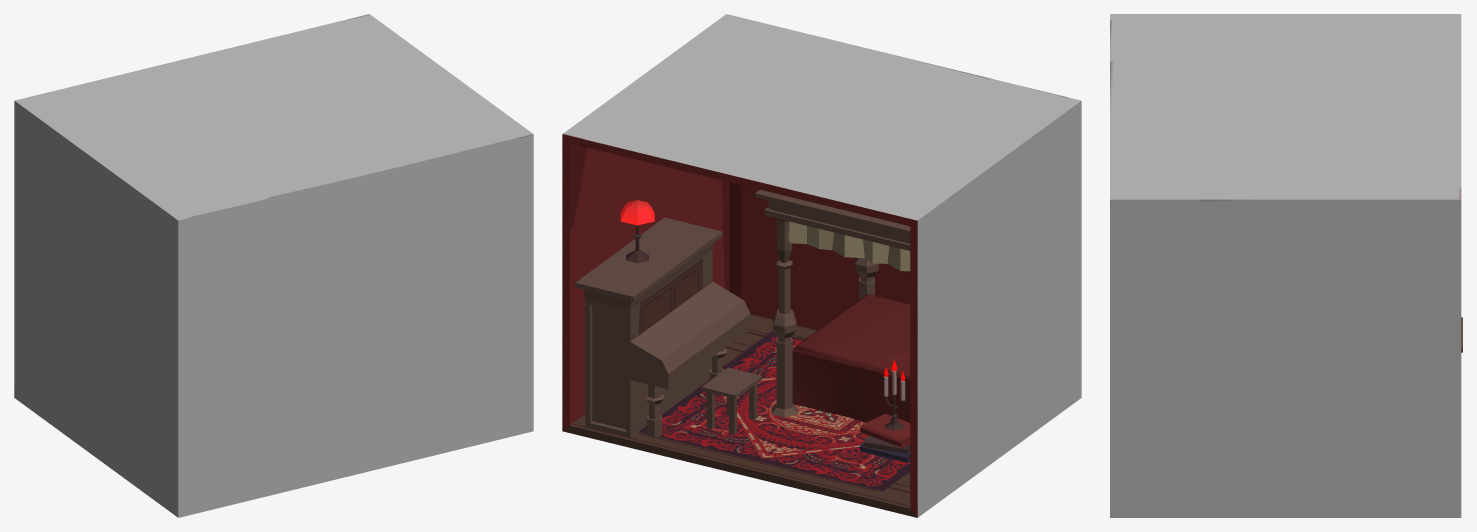
Rendered from BloodRoom.fbx.
3 renders of one model, left to right at view 1: azimuth 30°, elevation 25°; view 2: azimuth 150°, elevation 25°; view 3: azimuth 270°, elevation 25°, orthographic. The views are drawn at different scales.
Visible parts, largest first — view 1: BloodWall; view 2: BloodWall, BloodPiano, BloodBed, BloodBook, BloodBench, BloodLamp; view 3: BloodWall.
Boxes of the visible parts, <box> form: BloodWall: <box>14,14,533,517</box>; BloodWall: <box>562,14,1081,517</box>; BloodPiano: <box>575,217,750,437</box>; BloodBed: <box>755,189,910,422</box>; BloodBook: <box>860,360,910,462</box>; BloodBench: <box>701,367,762,434</box>; BloodLamp: <box>620,200,654,263</box>; BloodWall: <box>1110,14,1461,517</box>.
Size of the model in its own units: 500 by 400 by 402.
Materials: 1 (1 with a texture image).
